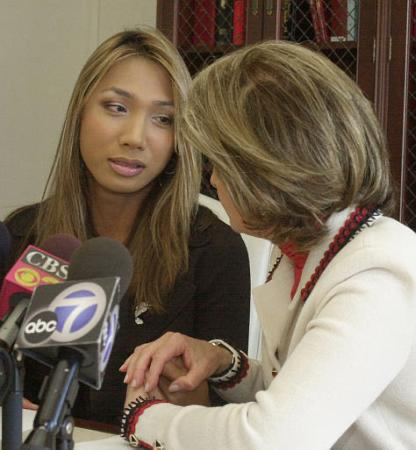Face: (76, 55, 180, 196)
